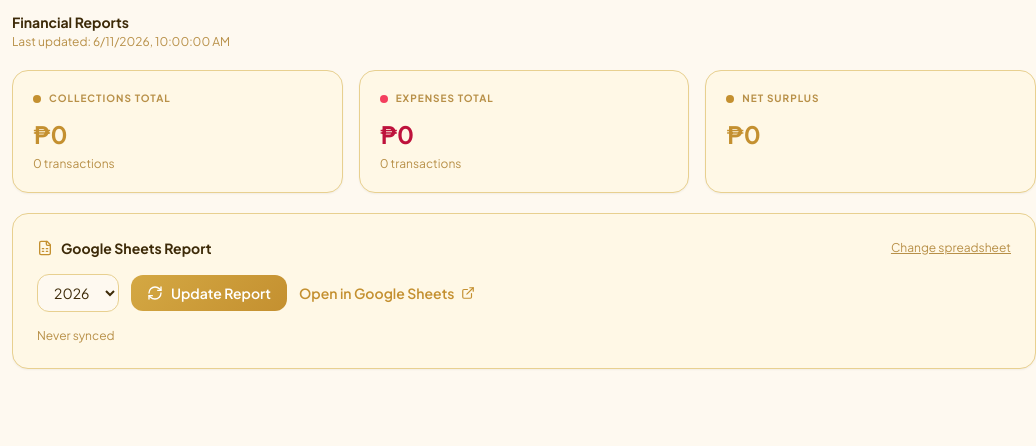
configured: update button syncs the selected year and shows success
Select "2025" in the dropdown: (78, 293) x1=37 y1=274 x2=119 y2=312
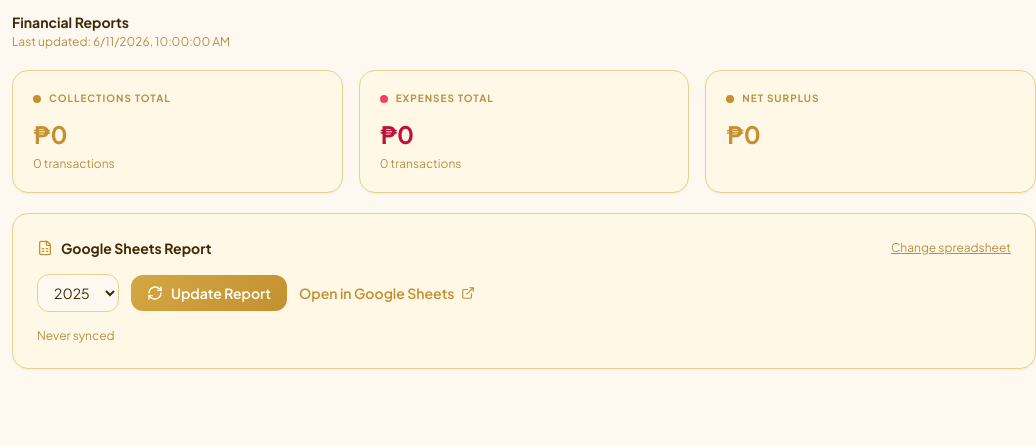
Click the button "Update Report": (209, 293) x1=131 y1=275 x2=287 y2=311
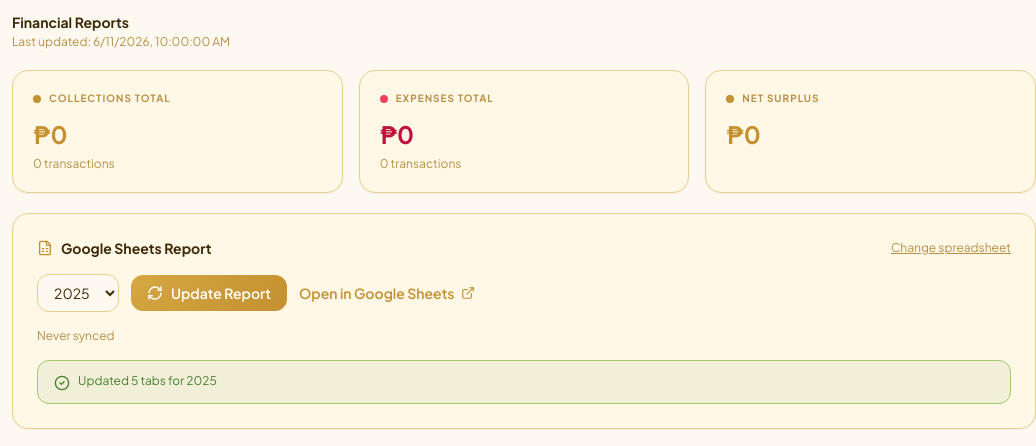
Now the text "Updated 5 tabs for 2025" is shown, box x1=78 y1=373 x2=217 y2=389
